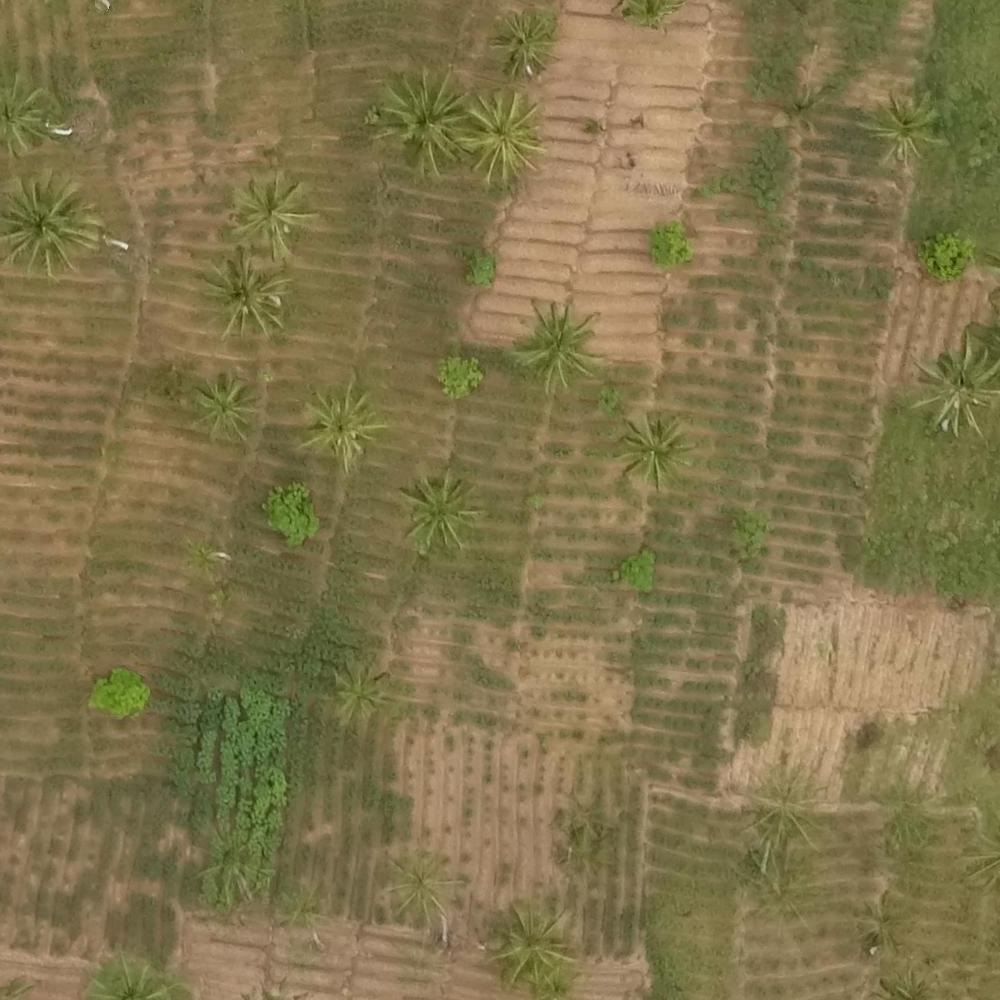Palm: (375, 69, 471, 172), (4, 175, 99, 278), (908, 335, 993, 433), (458, 92, 549, 183), (509, 302, 598, 389), (199, 250, 286, 338), (486, 901, 569, 983), (378, 846, 459, 926), (227, 176, 312, 252), (299, 388, 377, 467), (396, 473, 474, 551), (620, 413, 695, 489), (863, 91, 943, 162), (492, 8, 563, 79), (190, 373, 255, 440), (327, 664, 392, 725)
